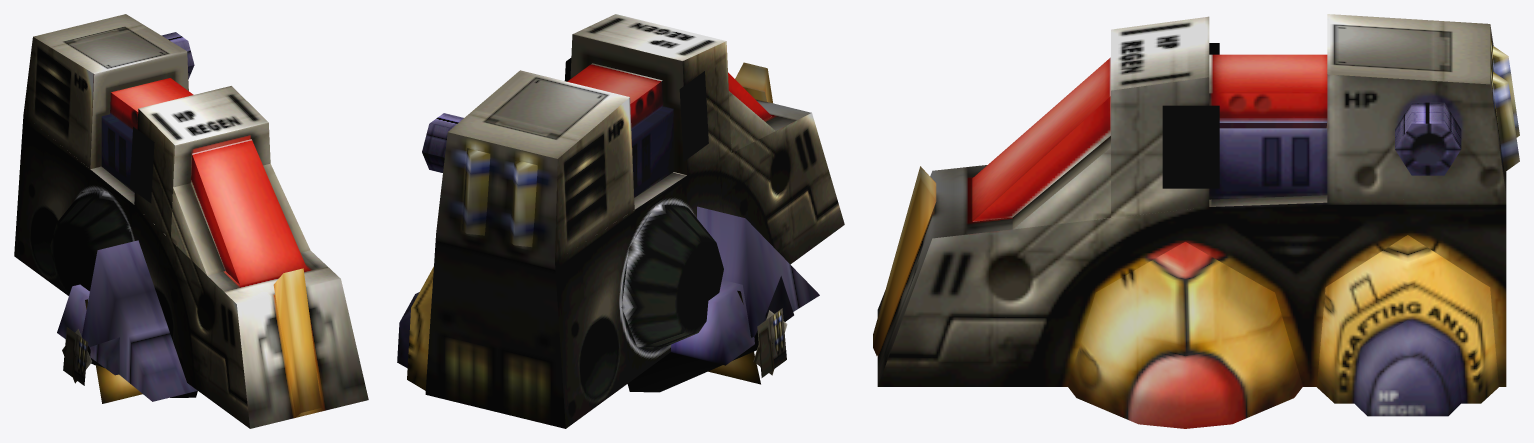
File: datan_common___LArm_fe1dd94e.obj
The picture shows the model from 3 angles, left to right: view 1: azimuth 30°, elevation 25°; view 2: azimuth 150°, elevation 25°; view 3: azimuth 270°, elevation 25°; orthographic projection. The views are drawn at different scales.
Parts seen in each view (by area): view 1: datan_common___LArm_fe1dd94e_mesh04, datan_common___LArm_fe1dd94e_mesh01, datan_common___LArm_fe1dd94e_mesh13, datan_common___LArm_fe1dd94e_mesh33, datan_common___LArm_fe1dd94e_mesh08, datan_common___LArm_fe1dd94e_mesh21, datan_common___LArm_fe1dd94e_mesh06, datan_common___LArm_fe1dd94e_mesh10, datan_common___LArm_fe1dd94e_mesh02, datan_common___LArm_fe1dd94e_mesh14, datan_common___LArm_fe1dd94e_mesh34, datan_common___LArm_fe1dd94e_mesh23 (+5 smaller); view 2: datan_common___LArm_fe1dd94e_mesh04, datan_common___LArm_fe1dd94e_mesh03, datan_common___LArm_fe1dd94e_mesh01, datan_common___LArm_fe1dd94e_mesh08, datan_common___LArm_fe1dd94e_mesh33, datan_common___LArm_fe1dd94e_mesh34, datan_common___LArm_fe1dd94e_mesh05, datan_common___LArm_fe1dd94e_mesh23, datan_common___LArm_fe1dd94e_mesh35, datan_common___LArm_fe1dd94e_mesh25, datan_common___LArm_fe1dd94e_mesh16, datan_common___LArm_fe1dd94e_mesh24 (+9 smaller); view 3: datan_common___LArm_fe1dd94e_mesh00, datan_common___LArm_fe1dd94e_mesh15, datan_common___LArm_fe1dd94e_mesh01, datan_common___LArm_fe1dd94e_mesh16, datan_common___LArm_fe1dd94e_mesh13, datan_common___LArm_fe1dd94e_mesh17, datan_common___LArm_fe1dd94e_mesh22, datan_common___LArm_fe1dd94e_mesh12, datan_common___LArm_fe1dd94e_mesh25, datan_common___LArm_fe1dd94e_mesh09, datan_common___LArm_fe1dd94e_mesh21, datan_common___LArm_fe1dd94e_mesh20 (+5 smaller).
Boxes of the visible parts, bbox=[...] form: datan_common___LArm_fe1dd94e_mesh04: bbox=[14, 37, 249, 428]; datan_common___LArm_fe1dd94e_mesh01: bbox=[33, 14, 368, 428]; datan_common___LArm_fe1dd94e_mesh13: bbox=[111, 78, 307, 285]; datan_common___LArm_fe1dd94e_mesh33: bbox=[81, 240, 197, 401]; datan_common___LArm_fe1dd94e_mesh08: bbox=[50, 191, 132, 295]; datan_common___LArm_fe1dd94e_mesh21: bbox=[273, 268, 323, 416]; datan_common___LArm_fe1dd94e_mesh06: bbox=[90, 51, 188, 168]; datan_common___LArm_fe1dd94e_mesh10: bbox=[173, 163, 310, 275]; datan_common___LArm_fe1dd94e_mesh02: bbox=[172, 122, 270, 202]; datan_common___LArm_fe1dd94e_mesh14: bbox=[110, 92, 239, 284]; datan_common___LArm_fe1dd94e_mesh34: bbox=[57, 284, 119, 375]; datan_common___LArm_fe1dd94e_mesh23: bbox=[101, 114, 134, 192]; datan_common___LArm_fe1dd94e_mesh04: bbox=[555, 41, 844, 428]; datan_common___LArm_fe1dd94e_mesh03: bbox=[425, 132, 565, 428]; datan_common___LArm_fe1dd94e_mesh01: bbox=[448, 14, 811, 209]; datan_common___LArm_fe1dd94e_mesh08: bbox=[621, 204, 723, 347]; datan_common___LArm_fe1dd94e_mesh33: bbox=[697, 206, 819, 337]; datan_common___LArm_fe1dd94e_mesh34: bbox=[671, 276, 793, 365]; datan_common___LArm_fe1dd94e_mesh05: bbox=[570, 34, 687, 174]; datan_common___LArm_fe1dd94e_mesh23: bbox=[631, 106, 673, 197]; datan_common___LArm_fe1dd94e_mesh35: bbox=[627, 331, 772, 392]; datan_common___LArm_fe1dd94e_mesh25: bbox=[564, 58, 708, 161]; datan_common___LArm_fe1dd94e_mesh16: bbox=[407, 266, 433, 390]; datan_common___LArm_fe1dd94e_mesh24: bbox=[462, 148, 490, 235]; datan_common___LArm_fe1dd94e_mesh00: bbox=[878, 74, 1506, 386]; datan_common___LArm_fe1dd94e_mesh15: bbox=[1068, 242, 1302, 428]; datan_common___LArm_fe1dd94e_mesh01: bbox=[877, 14, 1490, 386]; datan_common___LArm_fe1dd94e_mesh16: bbox=[1317, 235, 1498, 403]; datan_common___LArm_fe1dd94e_mesh13: bbox=[972, 54, 1327, 221]; datan_common___LArm_fe1dd94e_mesh17: bbox=[1354, 320, 1461, 416]; datan_common___LArm_fe1dd94e_mesh22: bbox=[1209, 128, 1327, 199]; datan_common___LArm_fe1dd94e_mesh12: bbox=[973, 93, 1327, 221]; datan_common___LArm_fe1dd94e_mesh25: bbox=[1162, 43, 1219, 188]; datan_common___LArm_fe1dd94e_mesh09: bbox=[1013, 147, 1110, 229]; datan_common___LArm_fe1dd94e_mesh21: bbox=[873, 166, 936, 355]; datan_common___LArm_fe1dd94e_mesh20: bbox=[1395, 123, 1460, 175].
Size of the model in its own units: 1.54 by 1.78 by 2.68.
1 material, 1 textured.
